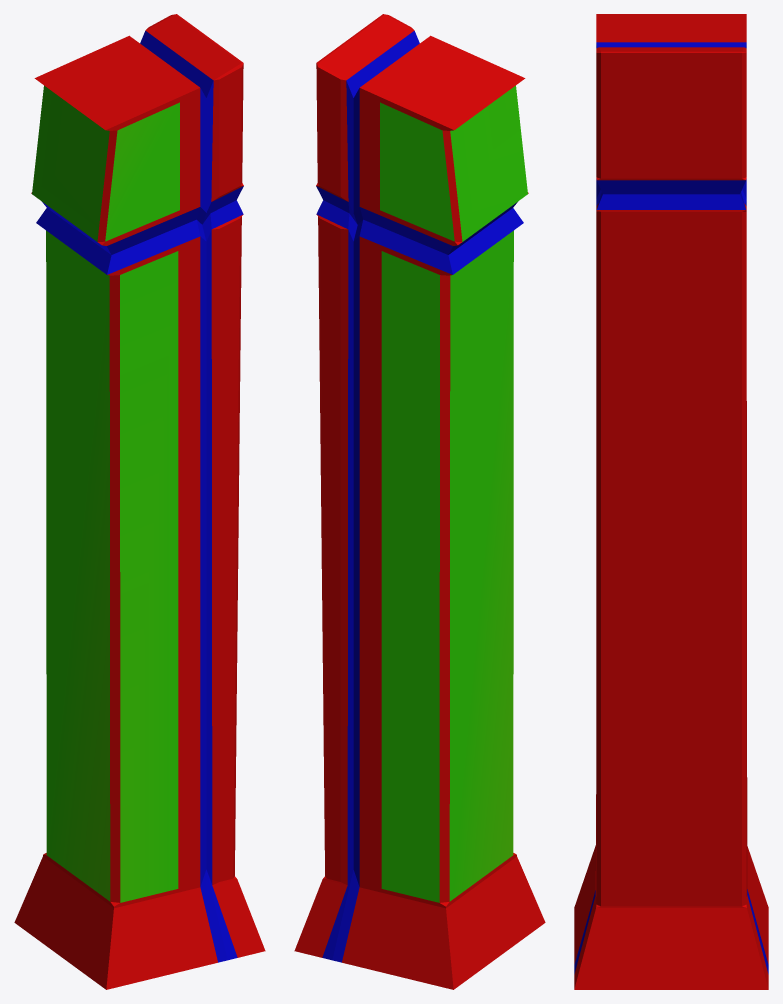
Rendered from SkyScraper(60).fbx.
3 renders of one model, left to right at view 1: azimuth 30°, elevation 25°; view 2: azimuth 150°, elevation 25°; view 3: azimuth 270°, elevation 25°, orthographic. The views are drawn at different scales.
Visible parts, largest first — view 1: Cube.004; view 2: Cube.004; view 3: Cube.004.
Boxes of the visible parts, x1,y1,x2,y2 form: Cube.004: [14, 14, 265, 989]; Cube.004: [294, 14, 545, 989]; Cube.004: [574, 14, 768, 989].
Size of the model in its own units: 11.99 by 63.44 by 11.99.
